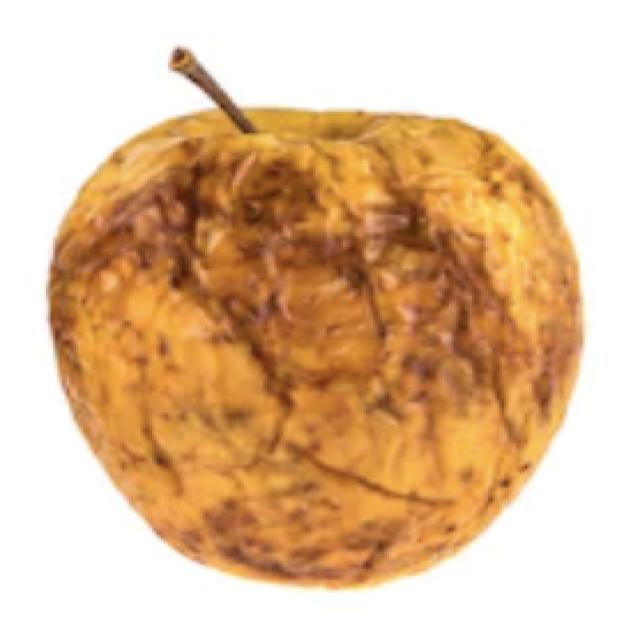apple: (49, 108, 582, 586)
